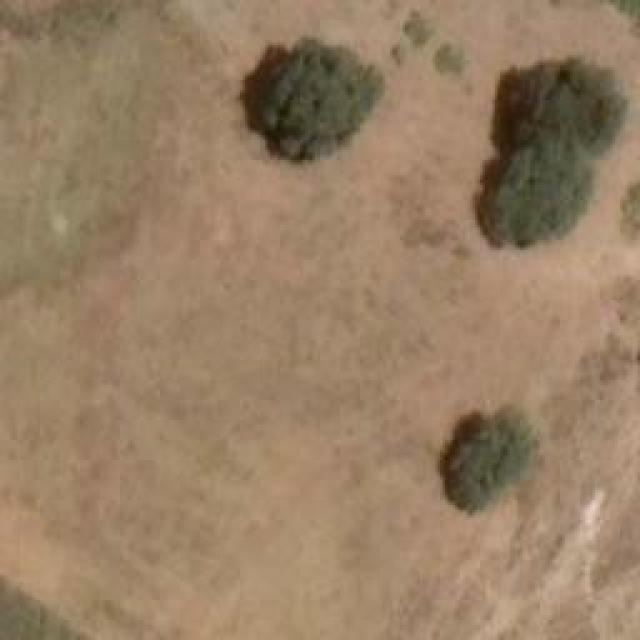Tree: (490, 60, 615, 235), (255, 45, 370, 153), (438, 408, 541, 513), (435, 42, 467, 76), (403, 10, 438, 41)
